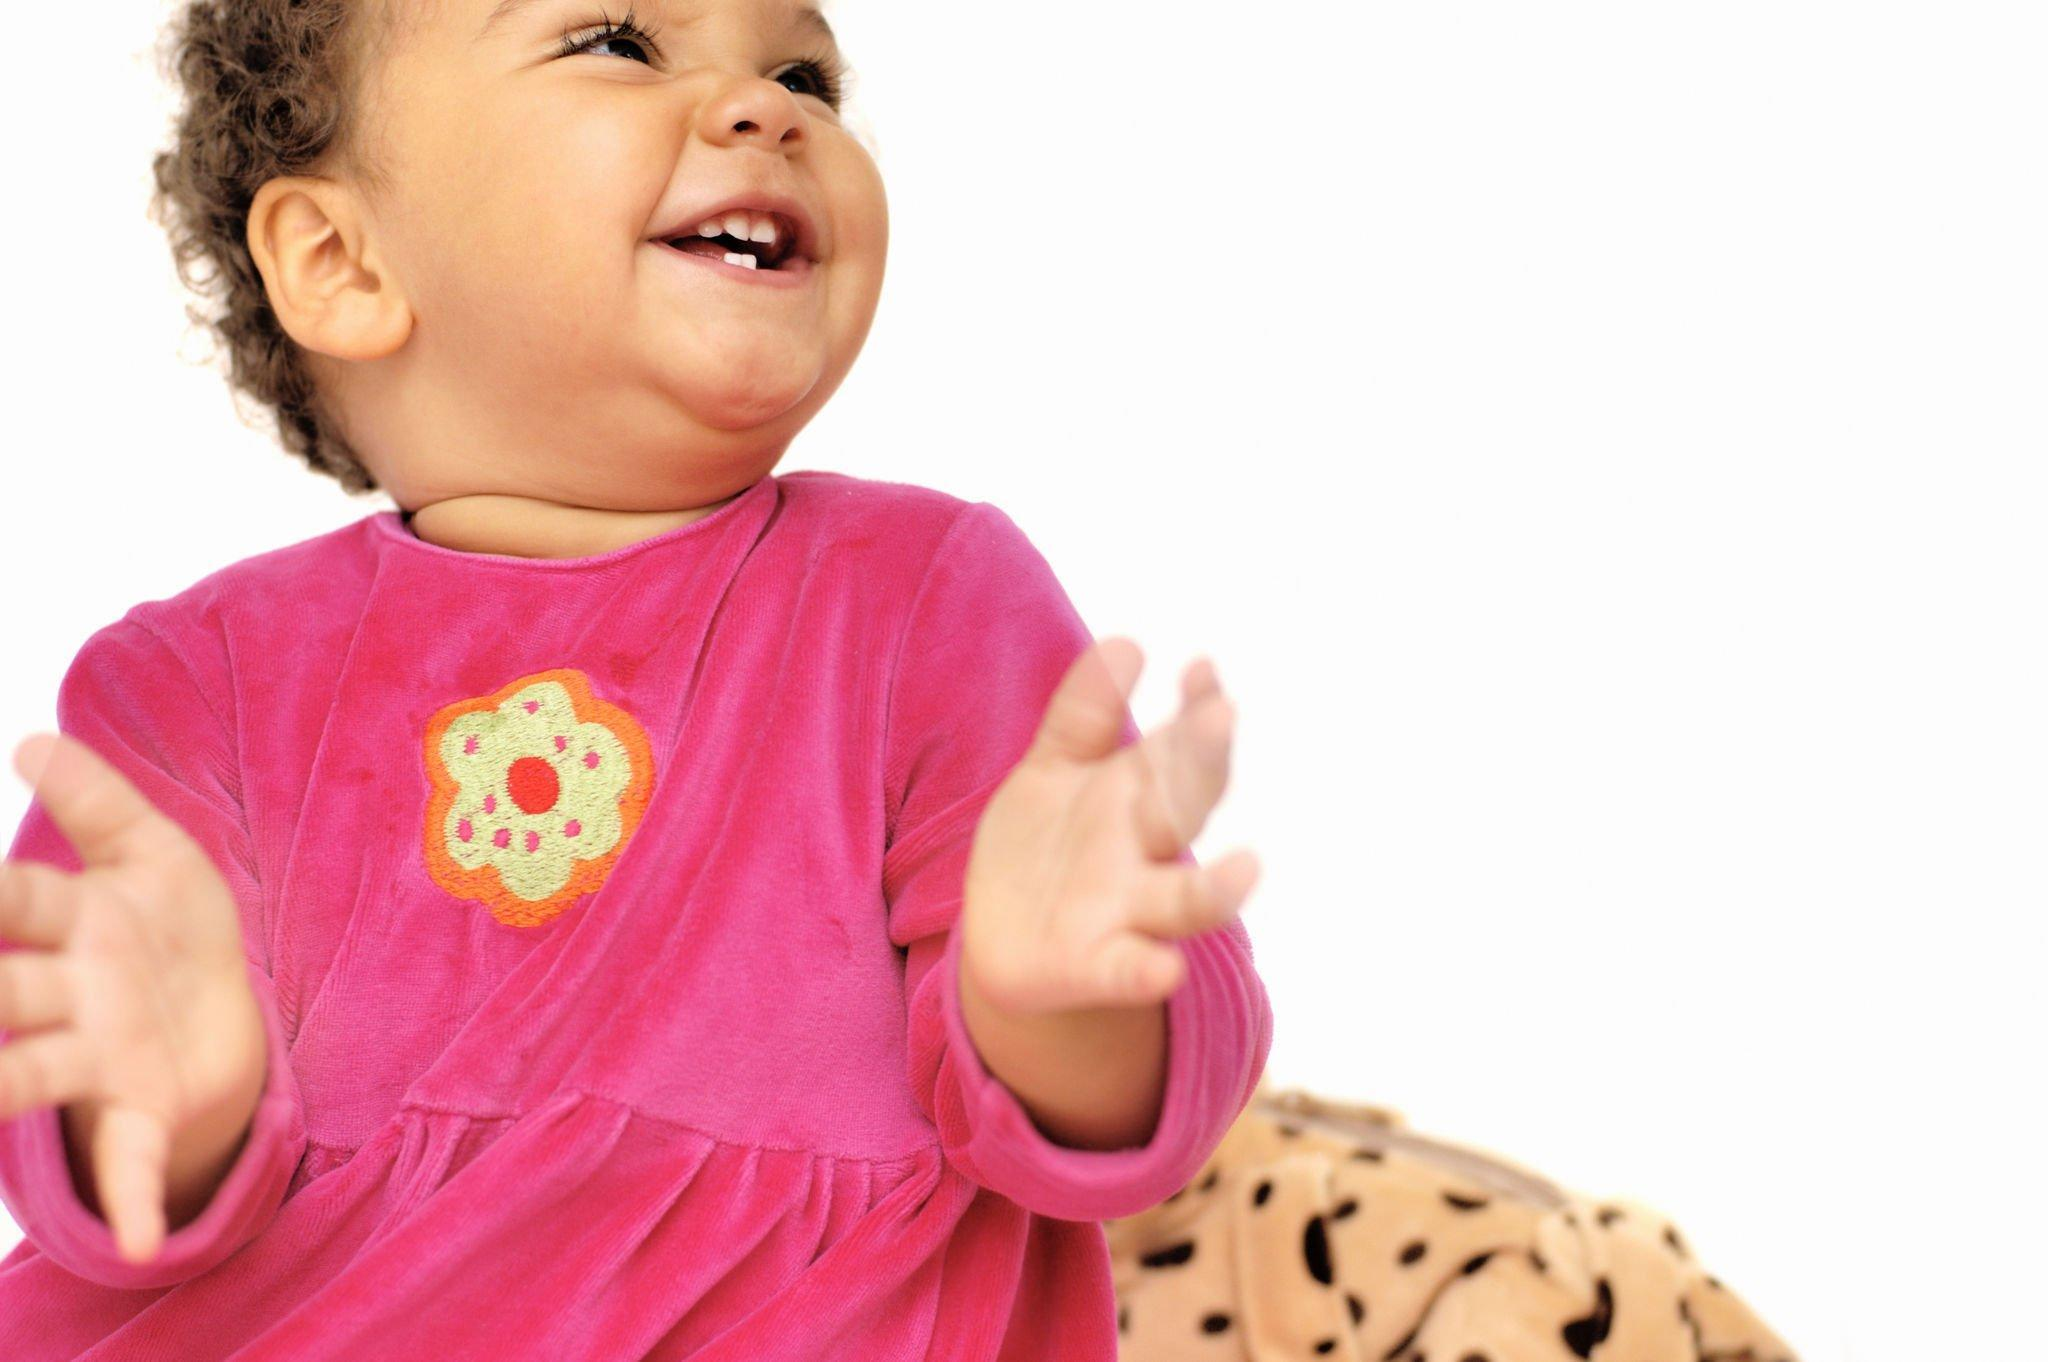Healthy: (156, 12, 925, 523)
